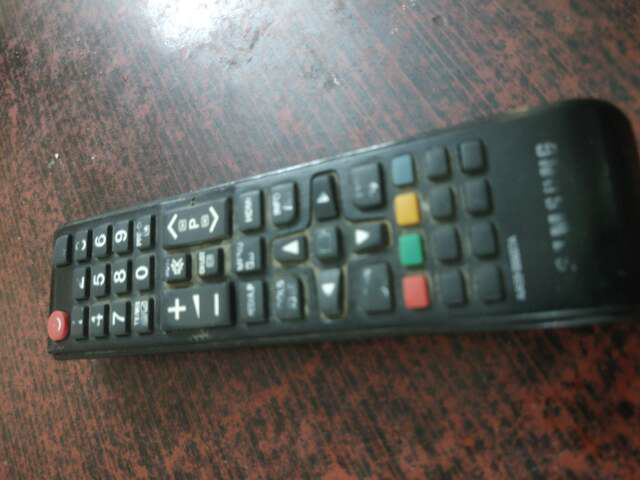remote: (44, 92, 640, 361)
